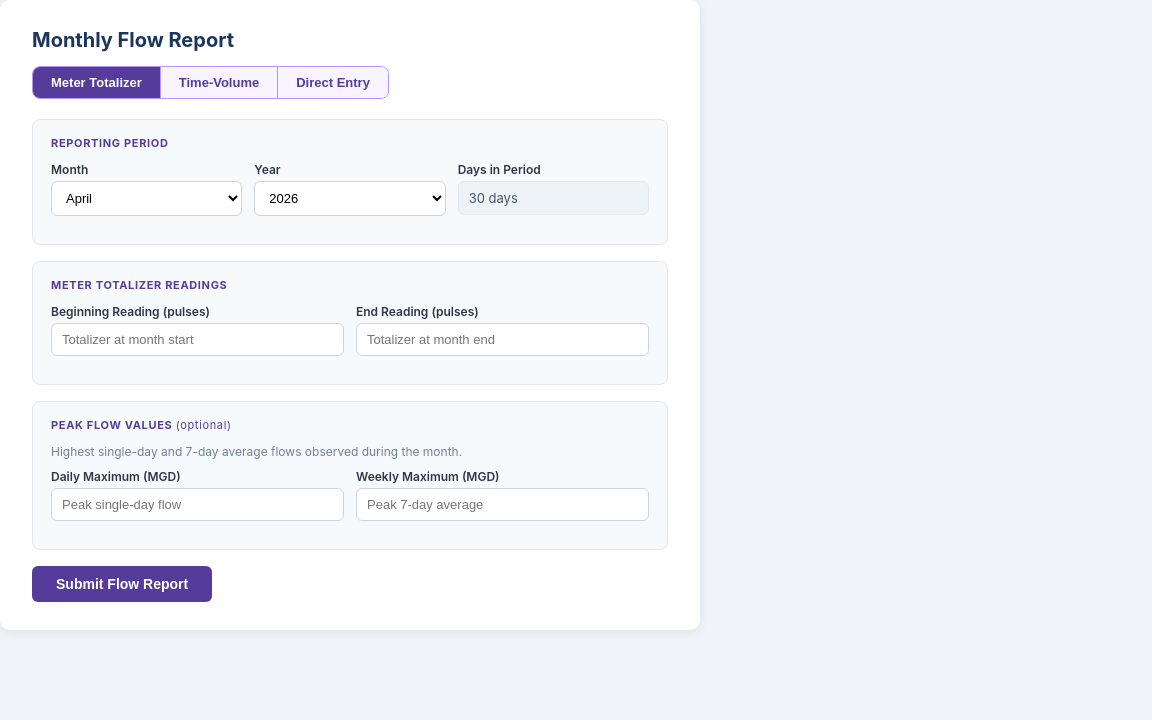
MonthlyFlowForm — meter live calculation › shows error when end reading is not greater than beginning reading
Type "2000" into the number field with placeholder "Totalizer at month start".
click(198, 340); type("2000")  # box [51,323,344,356]
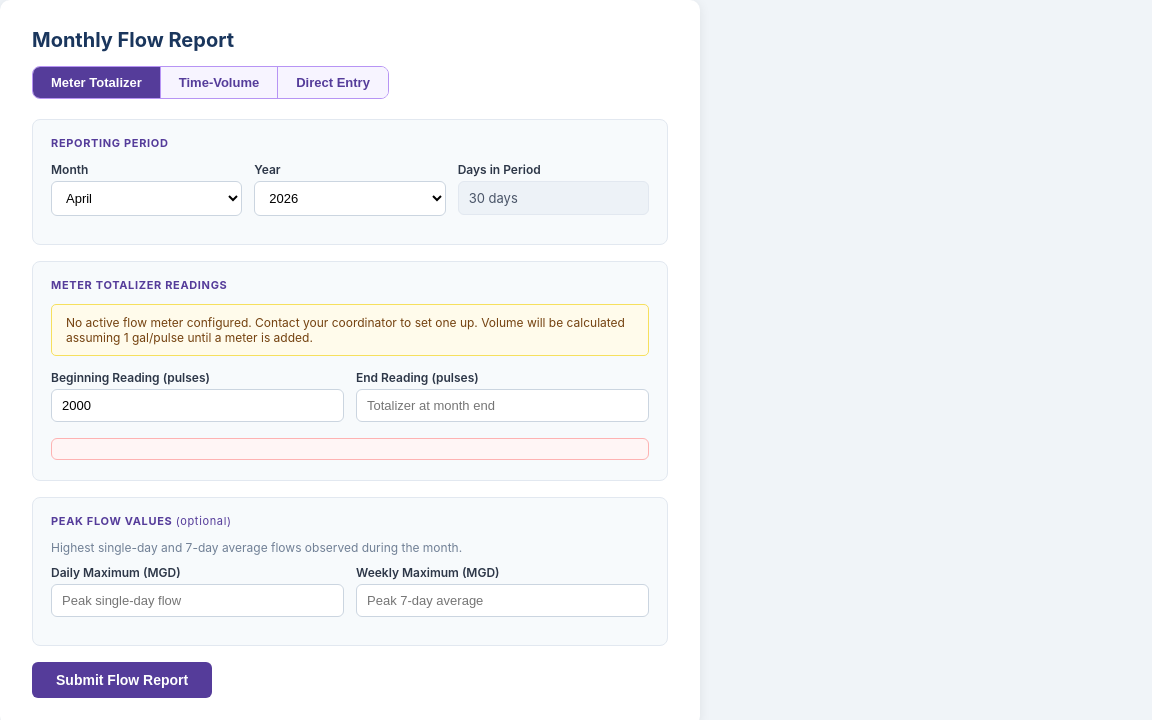
Type "1000" into the number field with placeholder "Totalizer at month end".
click(502, 406); type("1000")  # box [356,389,649,422]
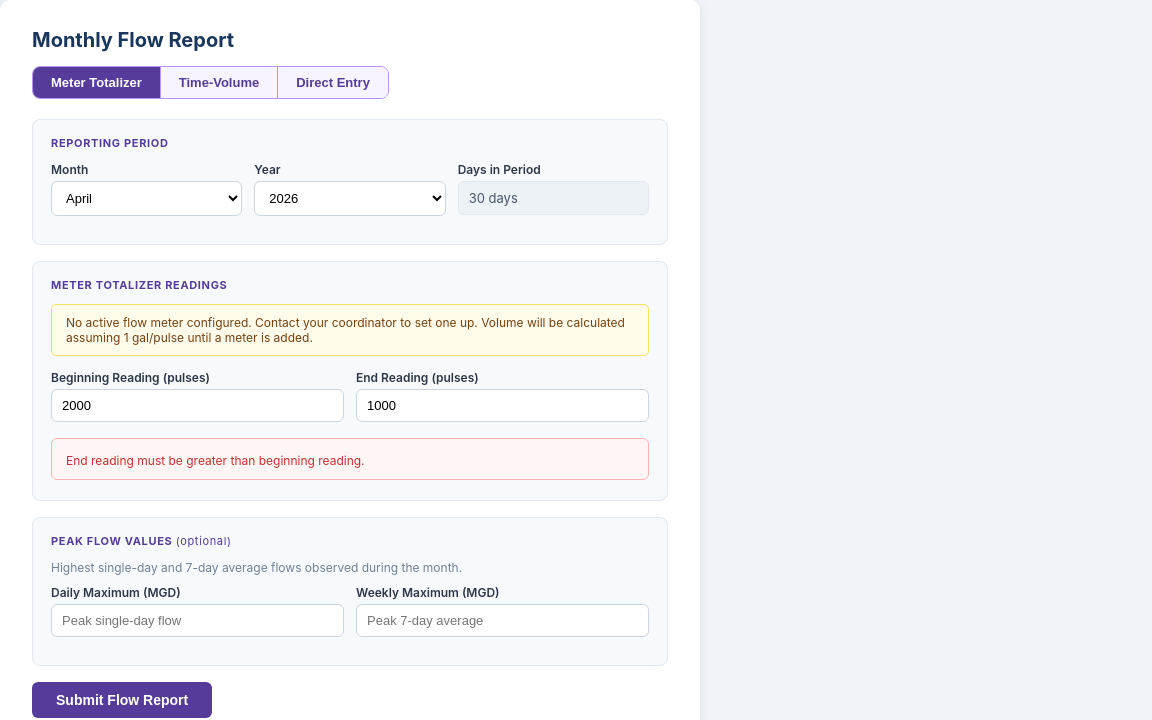
Expected: the text "End reading must be greater than beginning reading." is shown, [66,453,364,468]
